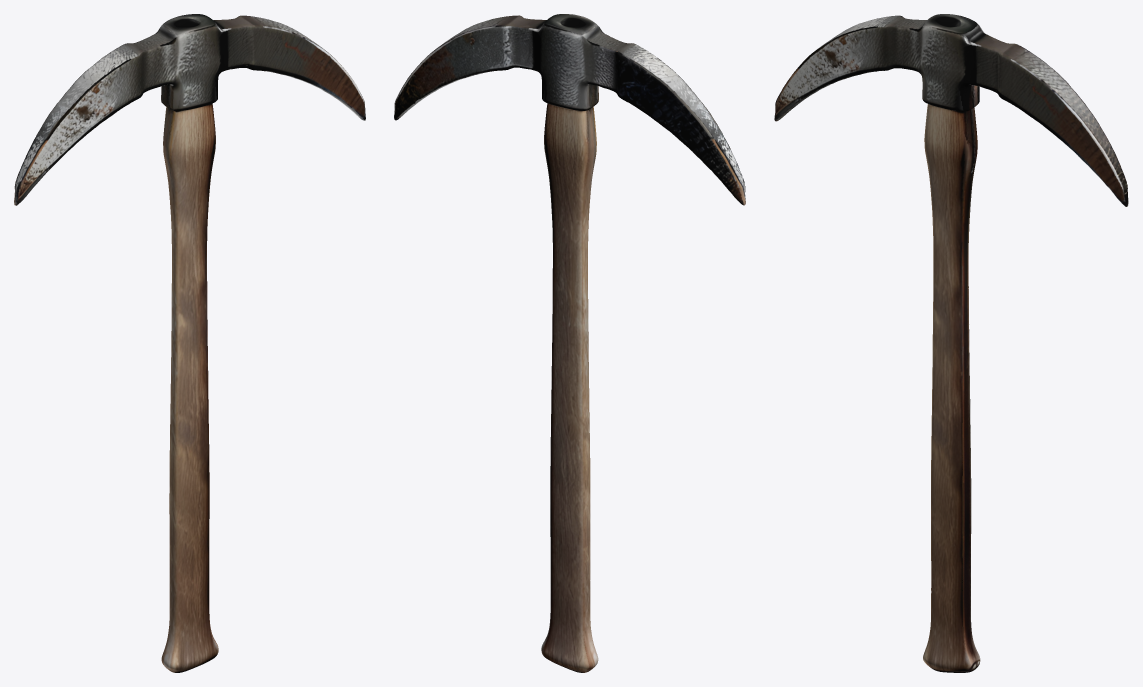
Rendered from Tripo.glb.
3 views of the same model, side by side, from view 1: azimuth 30°, elevation 25°; view 2: azimuth 150°, elevation 25°; view 3: azimuth 330°, elevation 25° (orthographic).
Visible parts, largest first — view 1: geometry_0; view 2: geometry_0; view 3: geometry_0.
Boxes of the visible parts, left/top/right/bottom form: geometry_0: left=14, top=14, right=365, bottom=672; geometry_0: left=394, top=14, right=745, bottom=672; geometry_0: left=774, top=14, right=1128, bottom=672.
Bounding box in the file's own units: 1.06 × 1.87 × 0.1069.
1 material, 1 textured.
